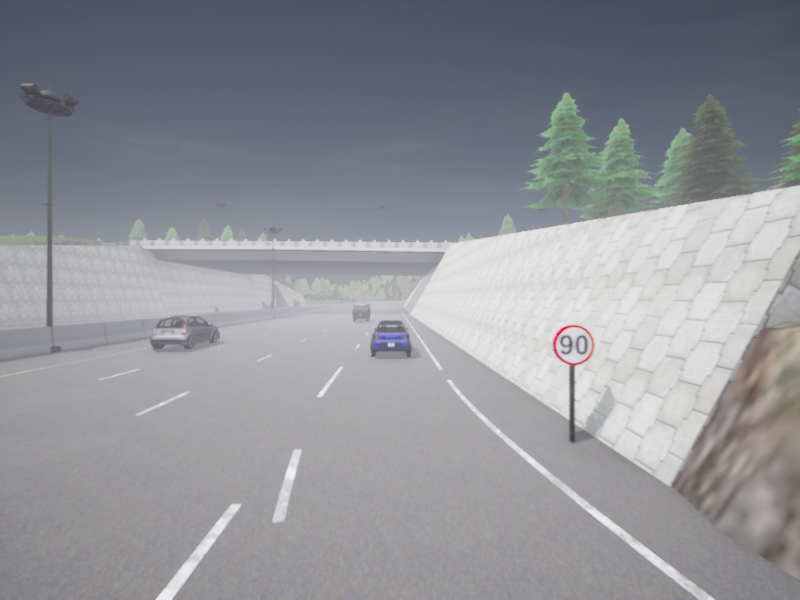vehicle: (150, 316, 218, 349), (371, 320, 410, 355), (353, 303, 370, 321), (365, 303, 370, 307)
